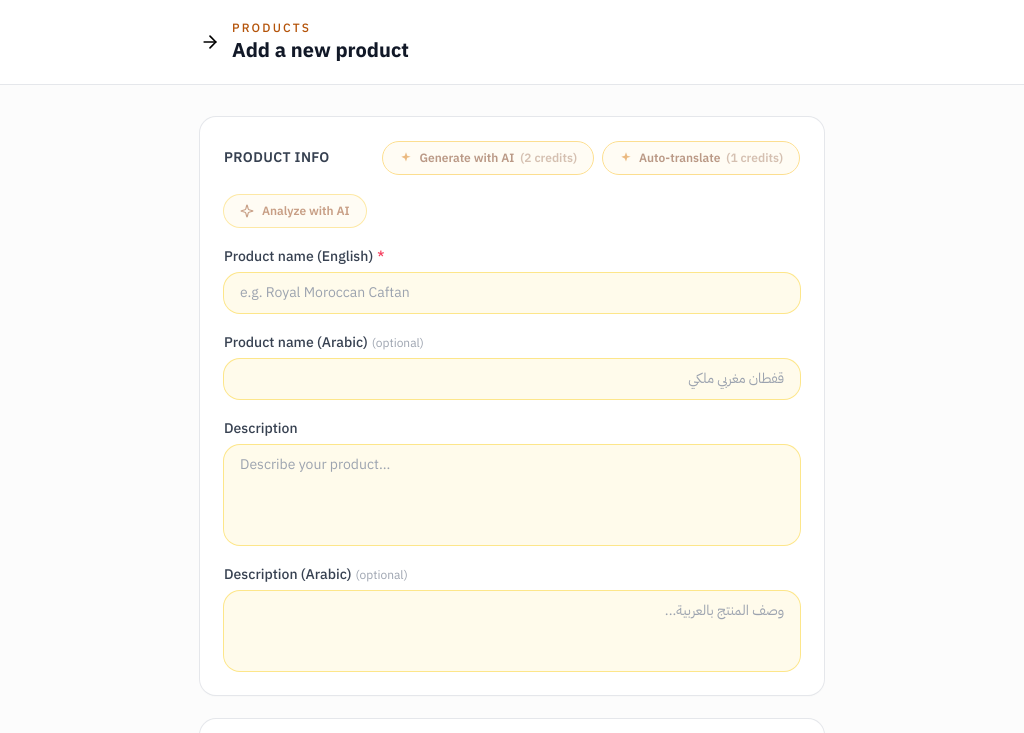
Test case: SellerNewProductPage — AI features › shows a review step with generated content when AI generate is clicked
// Fill the product name to enable the AI button
In the field labelled "Product name (English)*": (512, 293) [224,273,800,313], type "Royal Caftan"
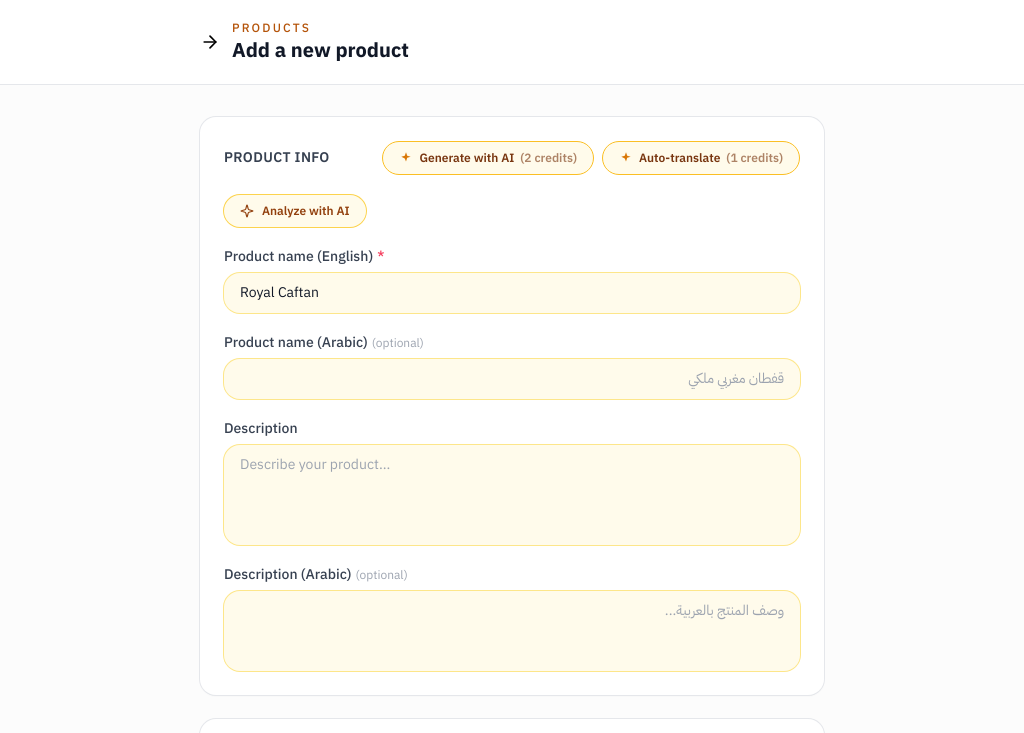
Click the button "Generate with AI (2 credits)": (488, 158) [382,141,594,175]
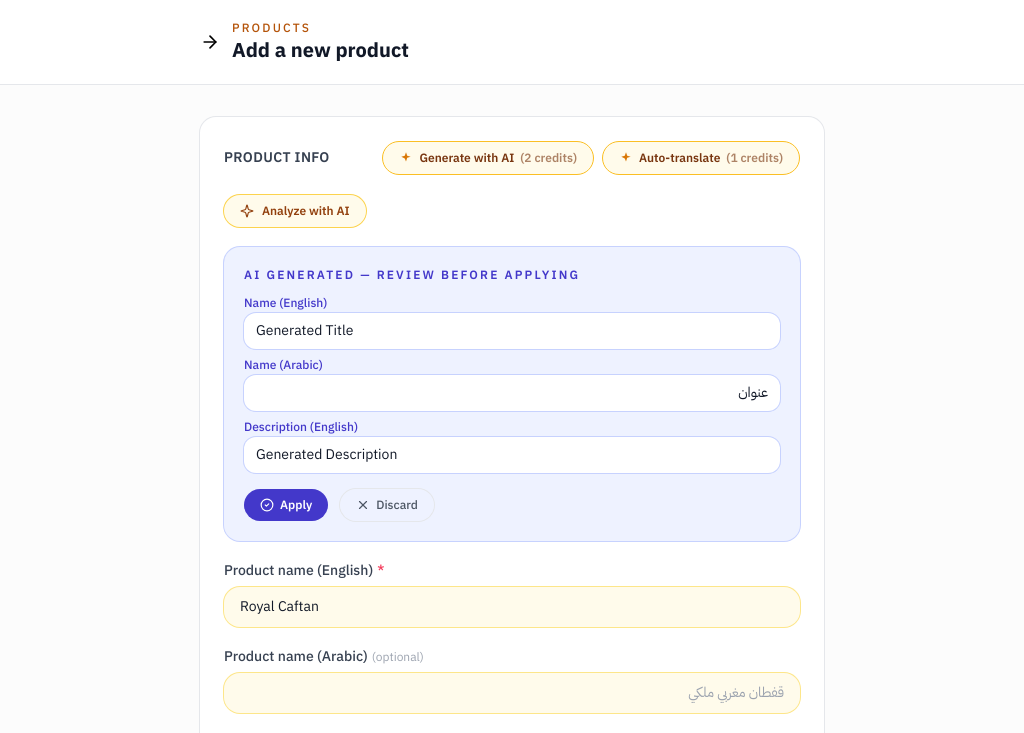
Expected: the text "Generated Title" is shown, [244,313,780,349]
